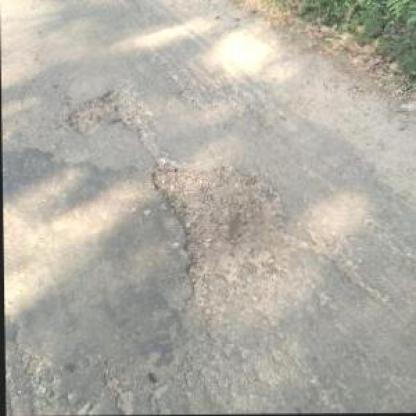pothole: (147, 160, 294, 288), (64, 83, 147, 135)
